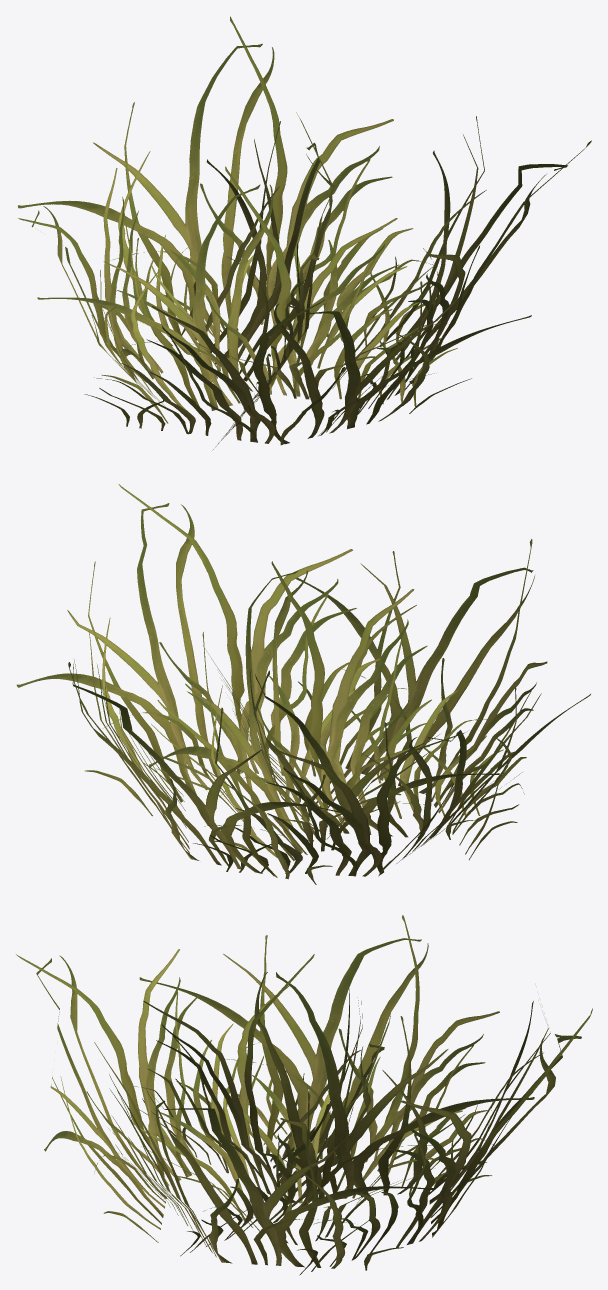
File: GrassVar2Test.fbx
The picture shows the model from 3 angles, top to bottom: view 1: azimuth 30°, elevation 25°; view 2: azimuth 150°, elevation 25°; view 3: azimuth 270°, elevation 25°; orthographic projection. The views are drawn at different scales.
Parts seen in each view (by area): view 1: Grass.001; view 2: Grass.001; view 3: Grass.001.
Boxes of the visible parts, <box> form: Grass.001: <box>18,16,591,449</box>; Grass.001: <box>16,484,590,884</box>; Grass.001: <box>16,915,592,1275</box>.
Size of the model in its own units: 86.44 by 47.17 by 88.28.
